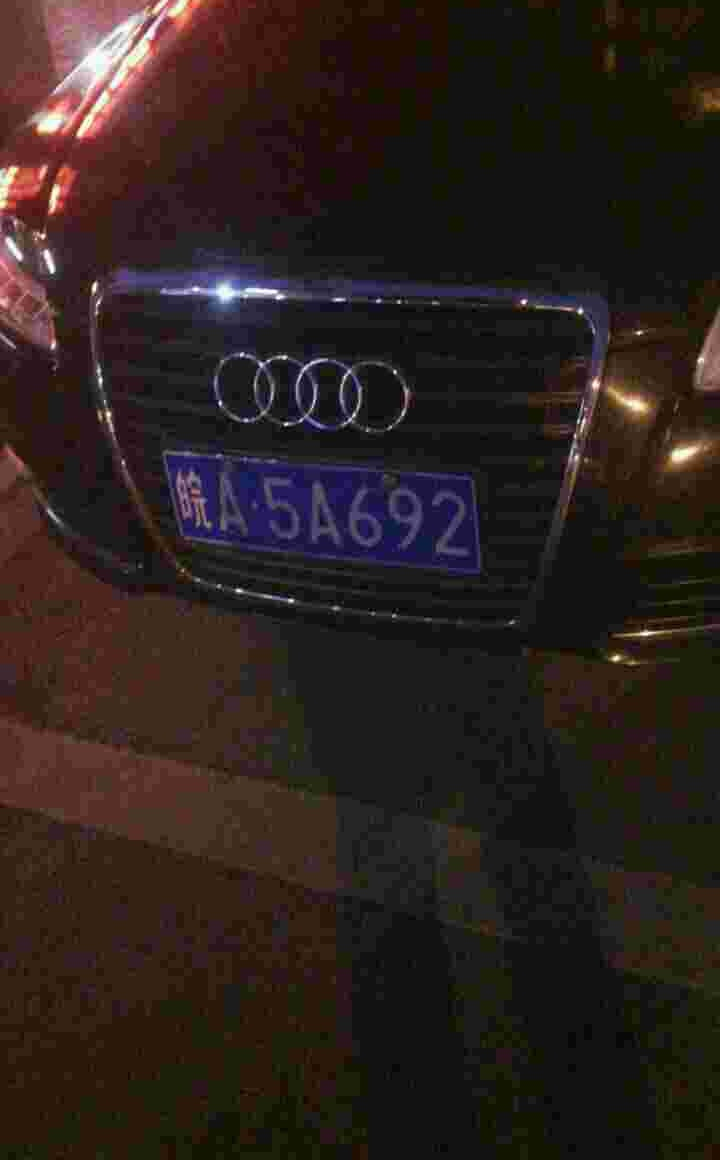license_plate: (163, 453, 482, 555)
